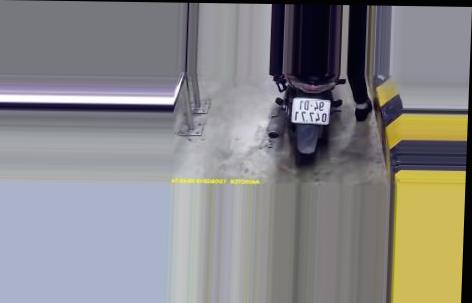License_Plate: (288, 95, 334, 128)
